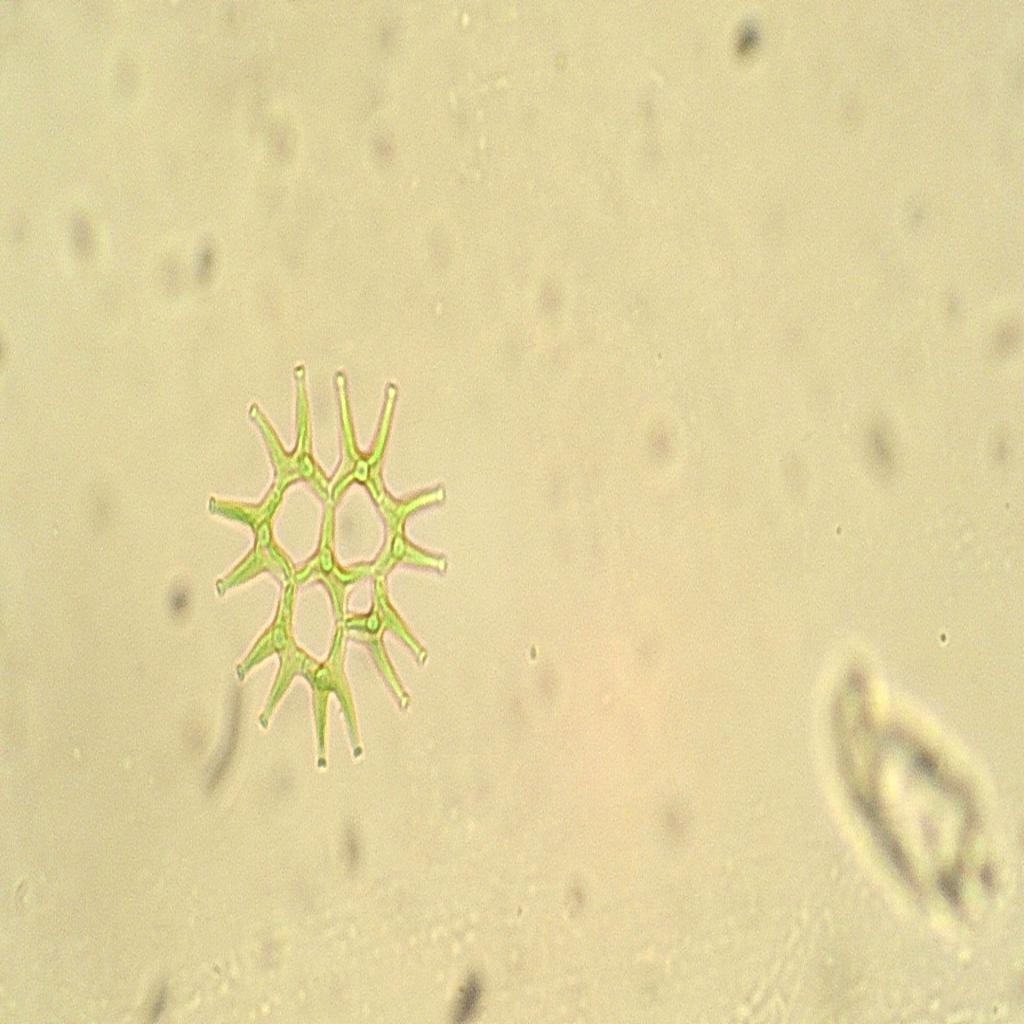Pediastrum_75T: (195, 348, 461, 796)
